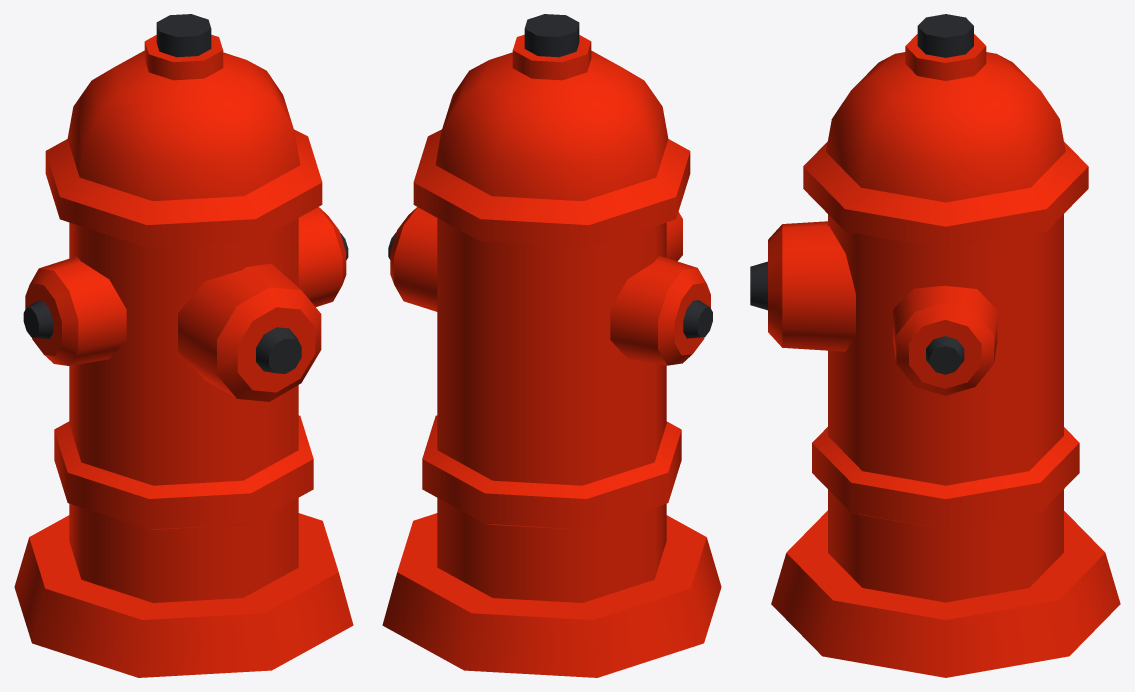
File: Fire Hydrant_1.fbx
3 views of the same model, side by side, from view 1: azimuth 30°, elevation 25°; view 2: azimuth 150°, elevation 25°; view 3: azimuth 270°, elevation 25° (orthographic).
Visible parts, largest first — view 1: Fire Hydrant_1; view 2: Fire Hydrant_1; view 3: Fire Hydrant_1.
Part boxes in pixels (x1,y1,x2,y2): Fire Hydrant_1: (14, 14, 353, 677); Fire Hydrant_1: (382, 14, 721, 677); Fire Hydrant_1: (750, 14, 1120, 677).
Bounding box in the file's own units: 84.38 × 151 × 87.88.
